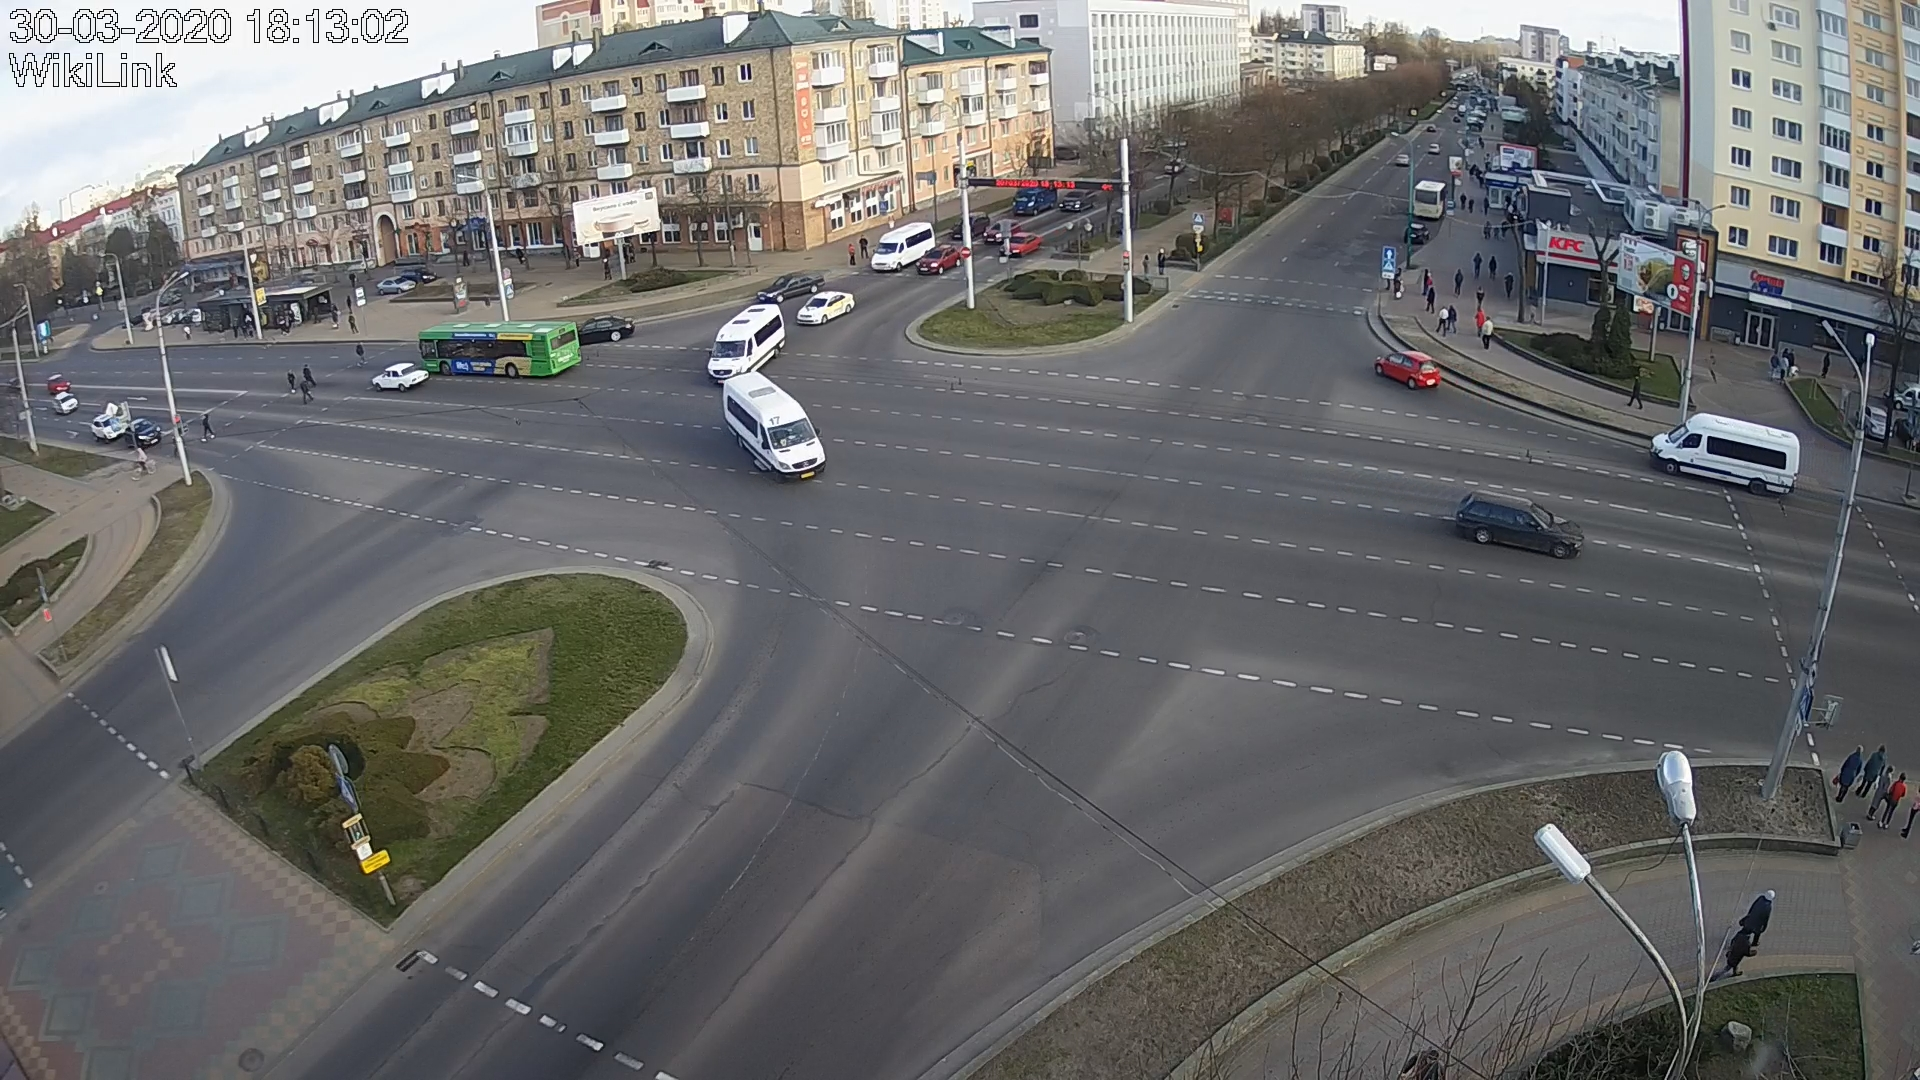bus: (417, 320, 583, 378)
car: (1650, 413, 1800, 498), (723, 372, 827, 483), (1455, 491, 1584, 559), (707, 305, 786, 384), (872, 222, 936, 272), (1374, 351, 1441, 389), (756, 272, 825, 302), (796, 291, 855, 324), (576, 315, 636, 345), (371, 363, 429, 393), (916, 243, 963, 276), (948, 210, 989, 239), (125, 418, 161, 448), (90, 414, 127, 443), (1000, 232, 1042, 256), (984, 219, 1021, 244)
